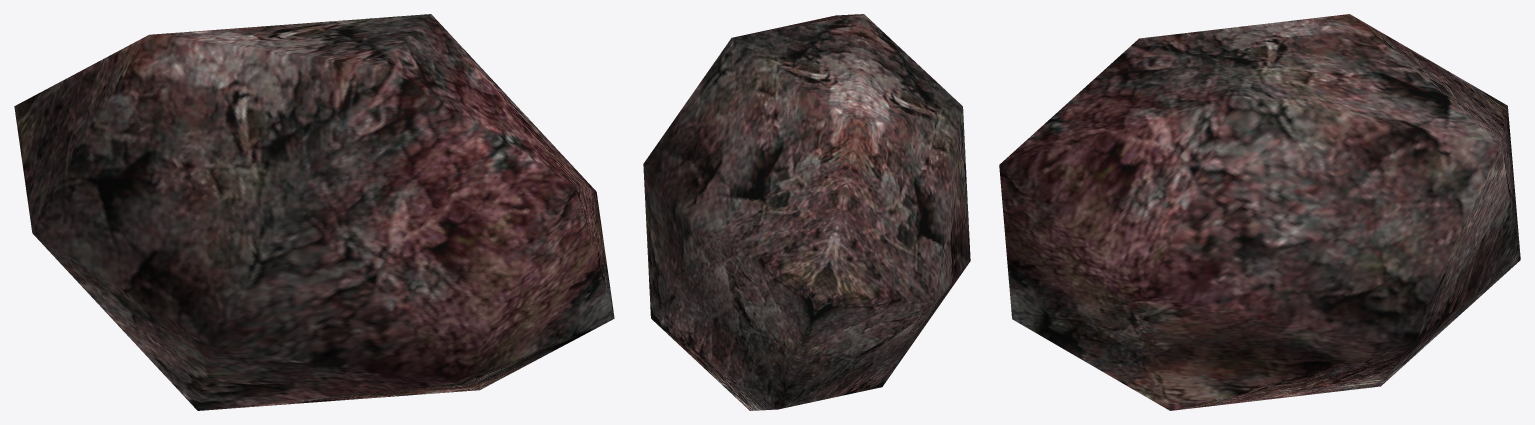
Rendered from stone_15.obj.
3 views of the same model, side by side, from view 1: azimuth 30°, elevation 25°; view 2: azimuth 150°, elevation 25°; view 3: azimuth 270°, elevation 25° (orthographic). The views are drawn at different scales.
Parts seen in each view (by area): view 1: (null); view 2: (null); view 3: (null).
Part boxes in pixels (x1=…): (null): x1=14, y1=14, x2=614, y2=410; (null): x1=643, y1=14, x2=970, y2=410; (null): x1=999, y1=14, x2=1520, y2=410.
Bounding box in the file's own units: 1.18 × 1 × 1.37.
